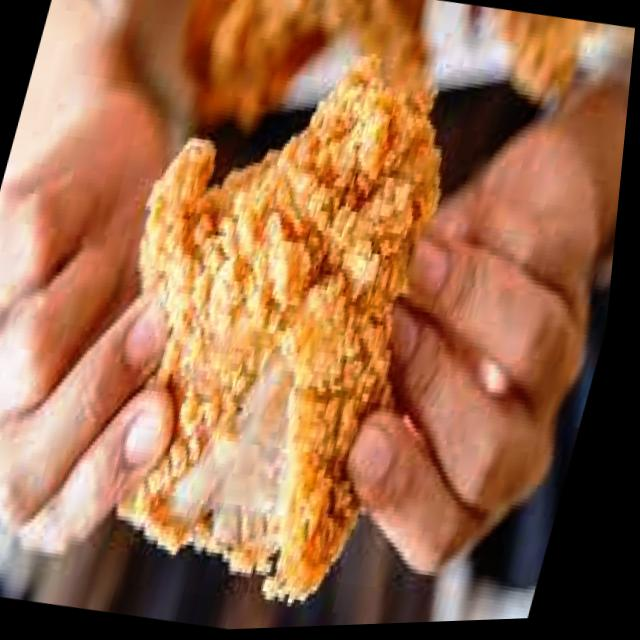fried_chicken: (62, 35, 477, 611)
